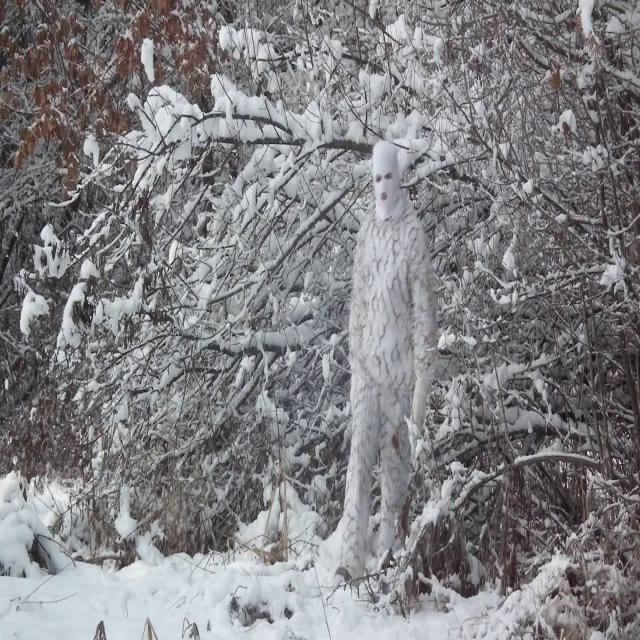Camouflage: (330, 141, 440, 584)
